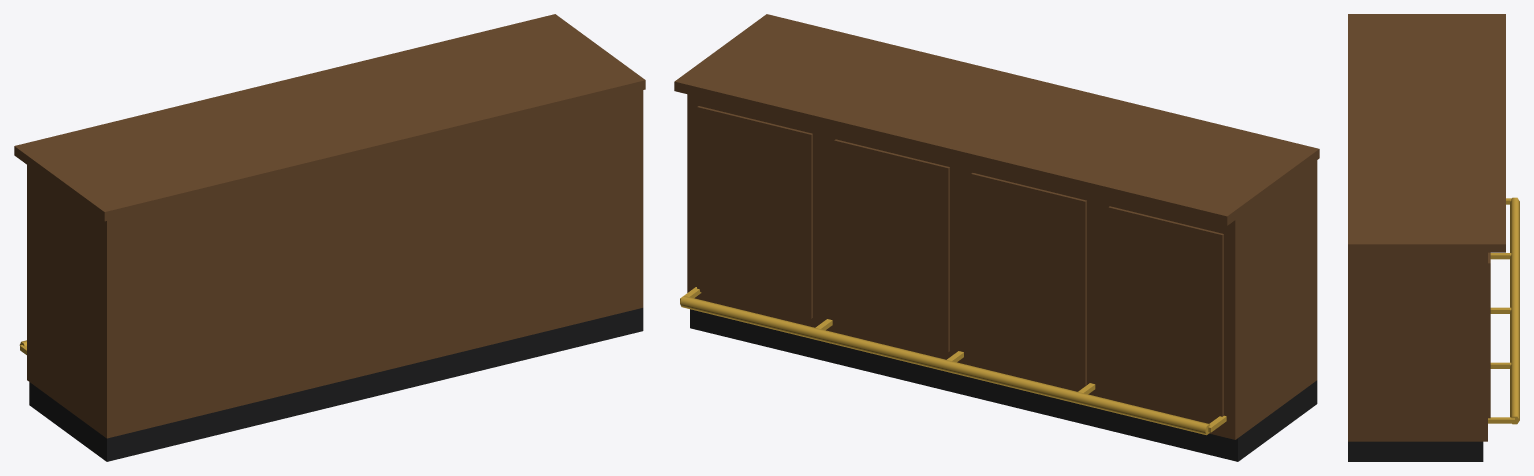
Rendered from parametric-bar-1st-pub.glb.
3 views of the same model, side by side, from view 1: azimuth 30°, elevation 25°; view 2: azimuth 150°, elevation 25°; view 3: azimuth 270°, elevation 25° (orthographic). The views are drawn at different scales.
Visible parts, largest first — view 1: parametric-bar-1st-pub; view 2: parametric-bar-1st-pub; view 3: parametric-bar-1st-pub.
Boxes of the visible parts, x1,y1,x2,y2 form: parametric-bar-1st-pub: (14,14,645,461); parametric-bar-1st-pub: (674,14,1319,461); parametric-bar-1st-pub: (1348,14,1519,461).
Bounding box in the file's own units: 2.42 × 1.07 × 0.762.
